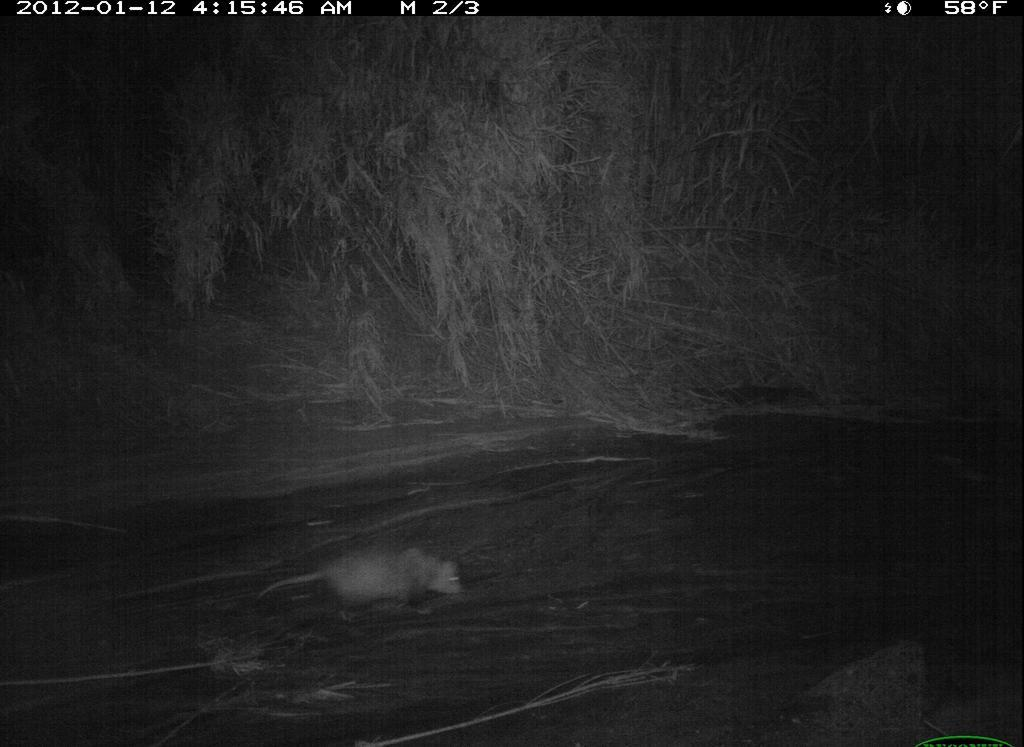opossum: (240, 523, 477, 651)
